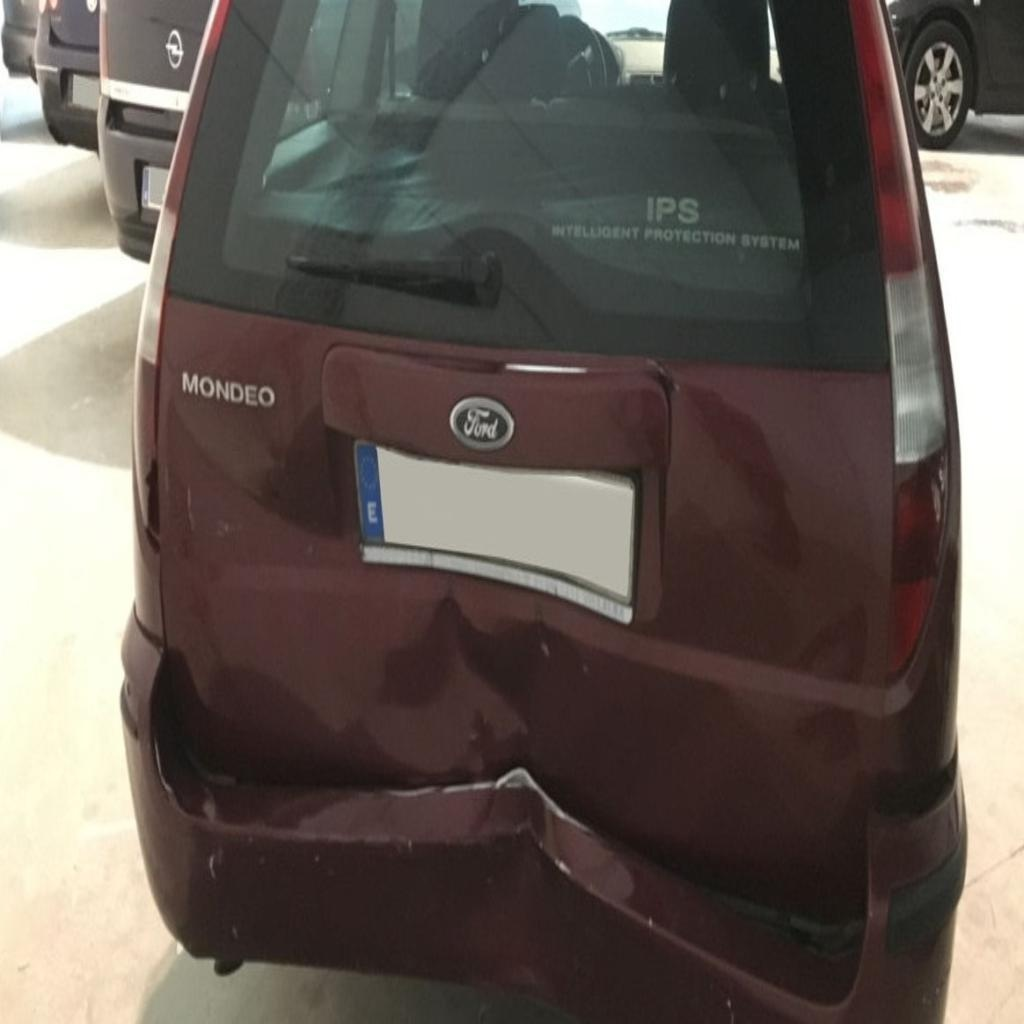Dent: (269, 797, 963, 1024), (365, 593, 717, 789), (605, 370, 830, 602), (132, 362, 361, 556)
